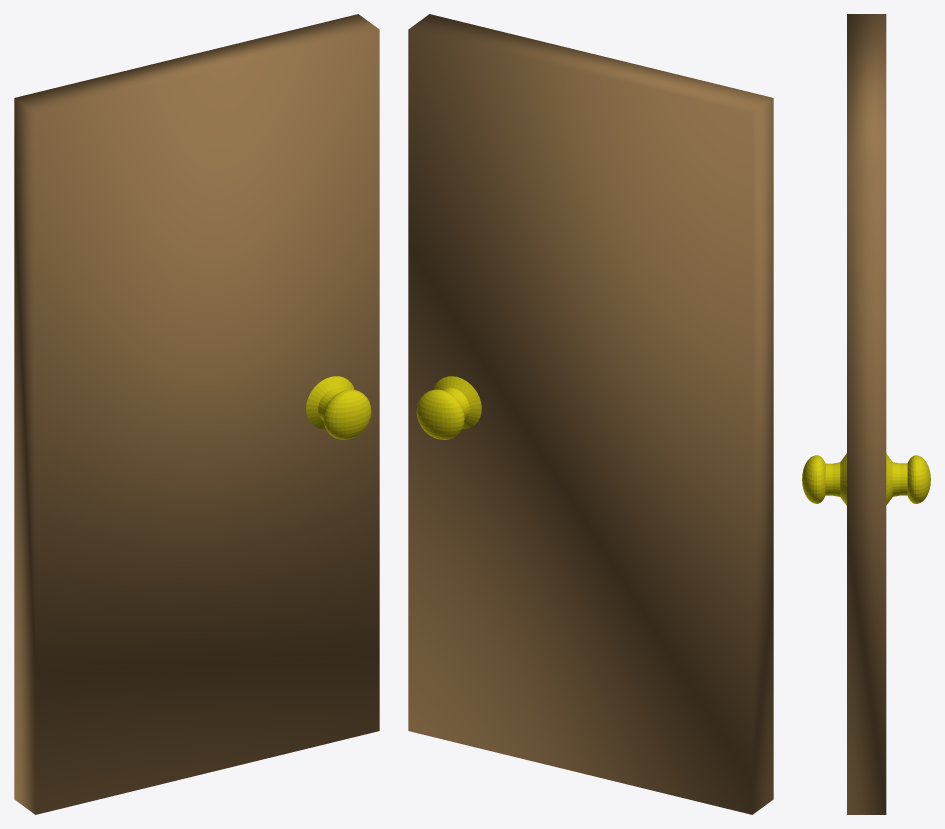
File: PuertaRocko.obj
The picture shows the model from 3 angles, left to right: view 1: azimuth 30°, elevation 25°; view 2: azimuth 150°, elevation 25°; view 3: azimuth 270°, elevation 25°; orthographic projection. The views are drawn at different scales.
Visible parts, largest first — view 1: PuertaRocko; view 2: PuertaRocko; view 3: PuertaRocko.
Boxes of the visible parts, x1,y1,x2,y2 form: PuertaRocko: (14,14,379,814); PuertaRocko: (408,14,773,814); PuertaRocko: (802,14,930,814).
Size of the model in its own units: 0.4128 by 0.8037 by 0.1453.
1 material, 1 textured.
